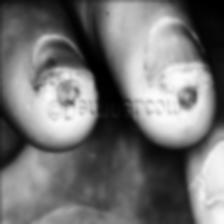Unclassified: (169, 66, 207, 93), (46, 79, 82, 98), (181, 87, 200, 117)
